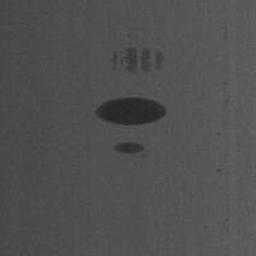Oil spot: (95, 96, 168, 127), (108, 46, 166, 74), (113, 141, 145, 155)
